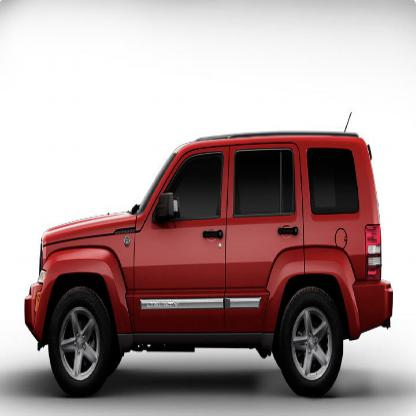Vehicle: (25, 110, 394, 403)
